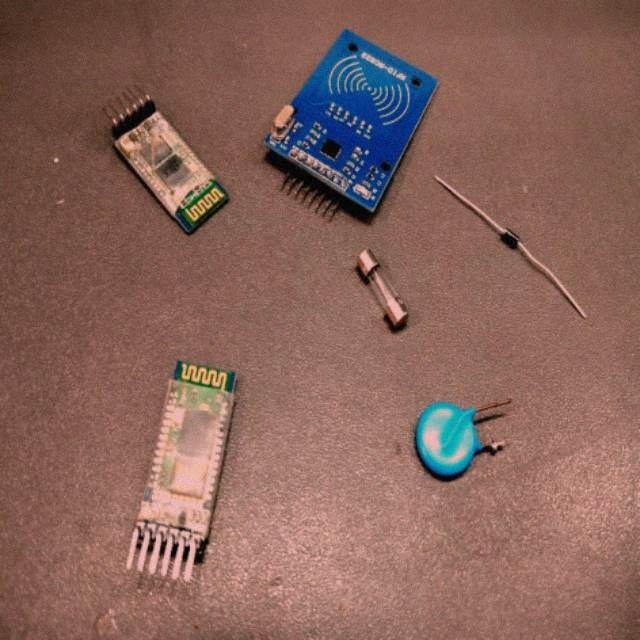capacitor: (414, 398, 489, 482)
